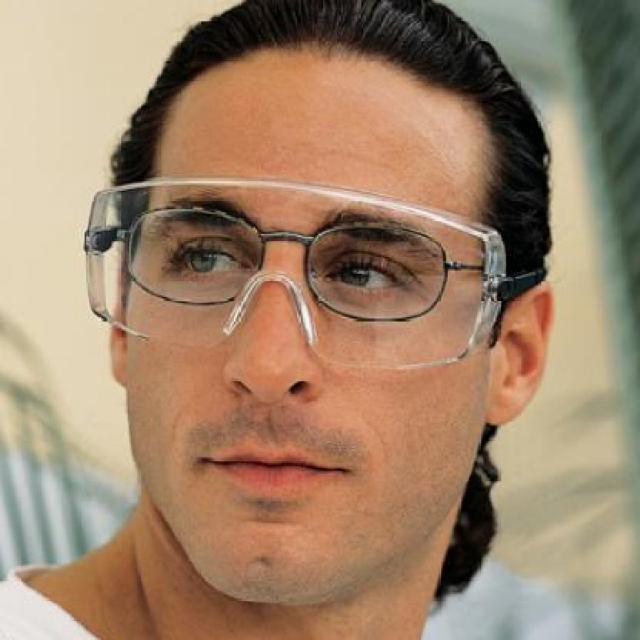Goggles: (78, 177, 551, 374)
